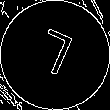L_SW: (31, 26, 79, 84)
